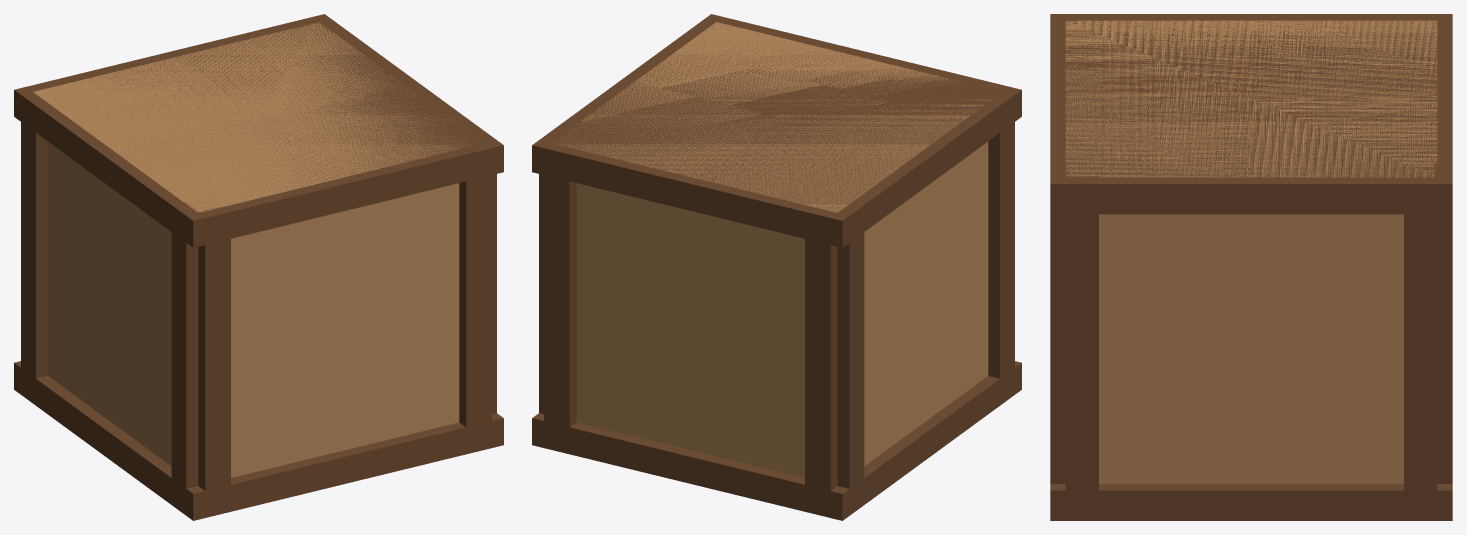
File: SM_Crate_Small.fbx
The picture shows the model from 3 angles, left to right: view 1: azimuth 30°, elevation 25°; view 2: azimuth 150°, elevation 25°; view 3: azimuth 270°, elevation 25°; orthographic projection. The views are drawn at different scales.
Parts seen in each view (by area): view 1: Crate_Small; view 2: Crate_Small; view 3: Crate_Small.
Boxes of the visible parts, x1,y1,x2,y2 form: Crate_Small: (14,14,503,520); Crate_Small: (532,14,1021,520); Crate_Small: (1050,14,1452,520).
Size of the model in its own units: 65 by 65 by 60.
